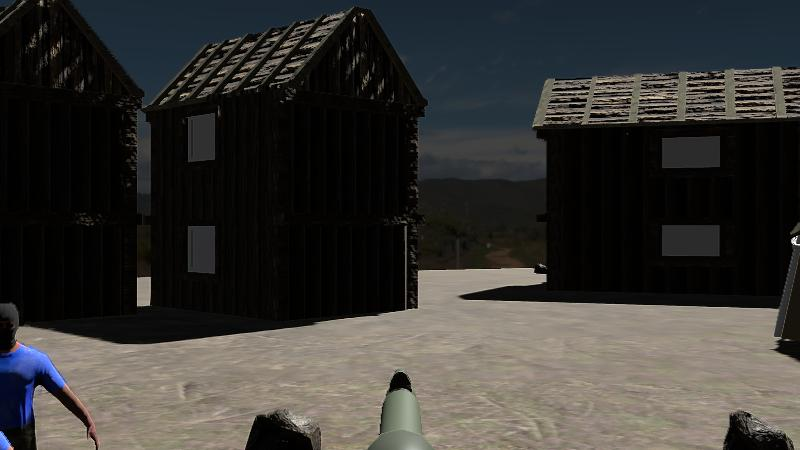House: (144, 7, 428, 322), (532, 70, 800, 302), (0, 2, 148, 323)
Human: (0, 301, 105, 448)
